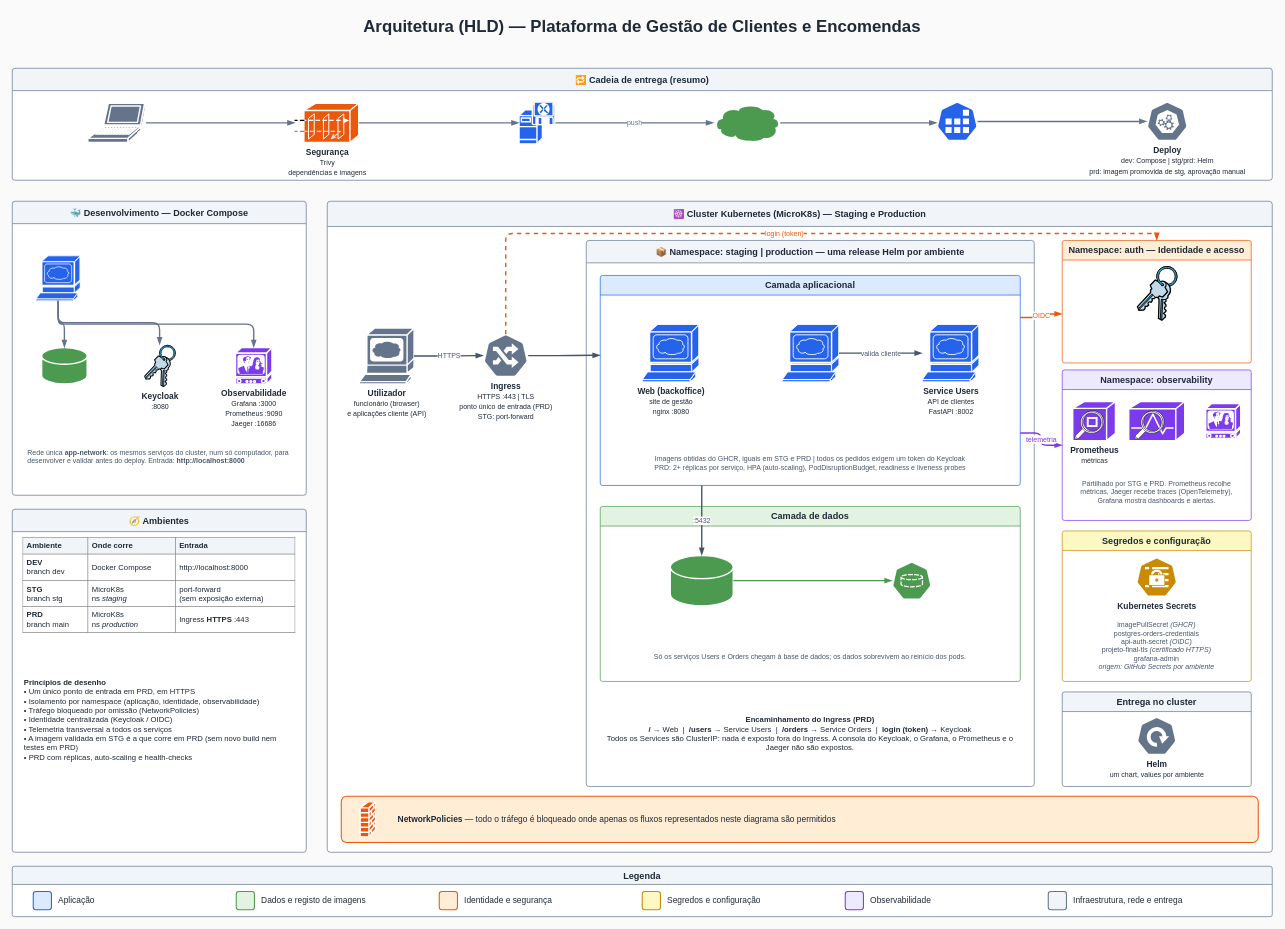
Image size: 1285x929. Some labels were removed from this diagram. Here are the shapes that lost their labels. From the top down, the centre of each, then its label:
(x=116, y=122): Código GitHub Actions dev stg main
(x=537, y=122): Build Buildx multi-arch web, users, orders
(x=746, y=122): GHCR ghcr.io/kunami264/ projeto-final-devops
(x=957, y=121): Testes unitários (dev) | integração + smoke (stg)
(x=57, y=278): Aplicação web :8000 | orders :8001 | users :8002
(x=1156, y=293): Keycloak (OIDC) realm projeto-final | :8080 login do site e tokens das APIs
(x=64, y=365): PostgreSQL :5432
(x=810, y=352): Service Orders API de encomendas FastAPI :8001
(x=1156, y=420): Jaeger tracing
(x=1223, y=420): Grafana dashboards
(x=701, y=580): PostgreSQL :5432 | tabelas users e orders
(x=911, y=580): PersistentVolumeClaim armazenamento persistente
